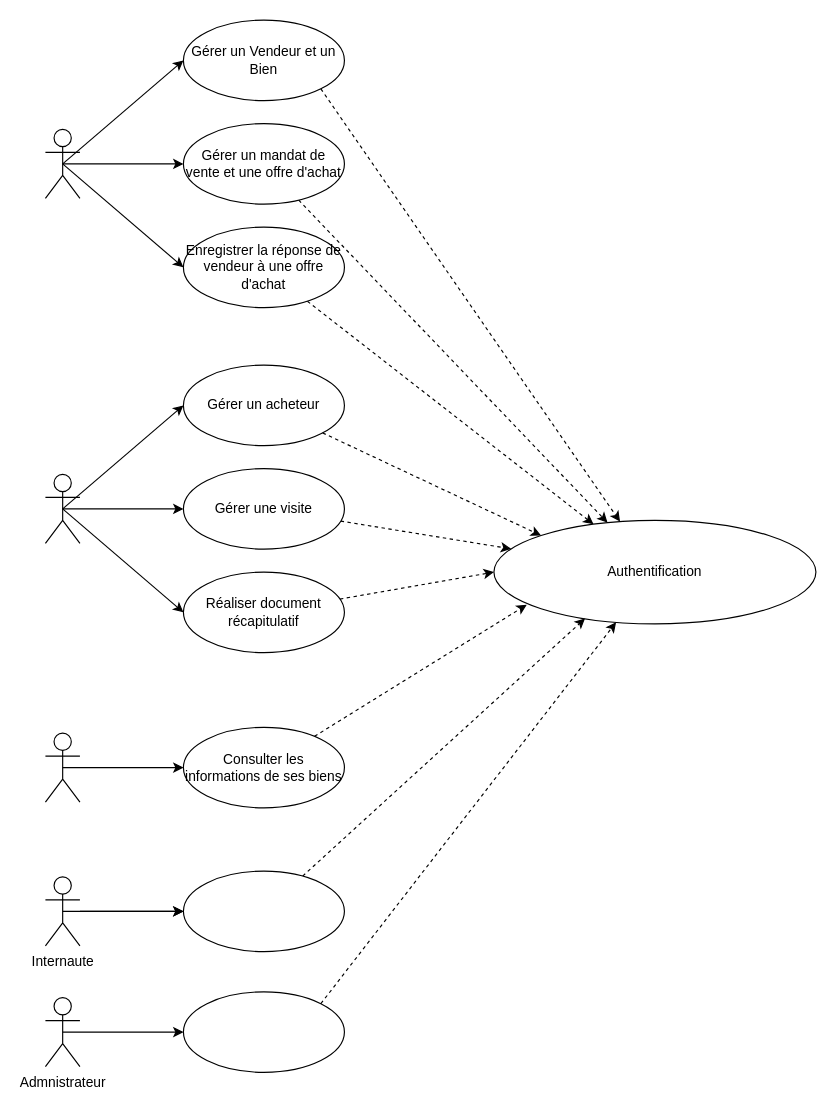
Some shapes in this 836 by 1111 pixel diagram are drawn without their labels. The box of each missing label's shape, as (x1, y1, x2, y2) in pixels:
Agent: (44, 128, 80, 198)
Consulter les Biens disponibles: (182, 870, 344, 952)
Employé: (44, 732, 80, 802)
Gère des comptes aux proptiétaires: (182, 991, 344, 1072)
Propriétaire: (44, 473, 80, 543)
